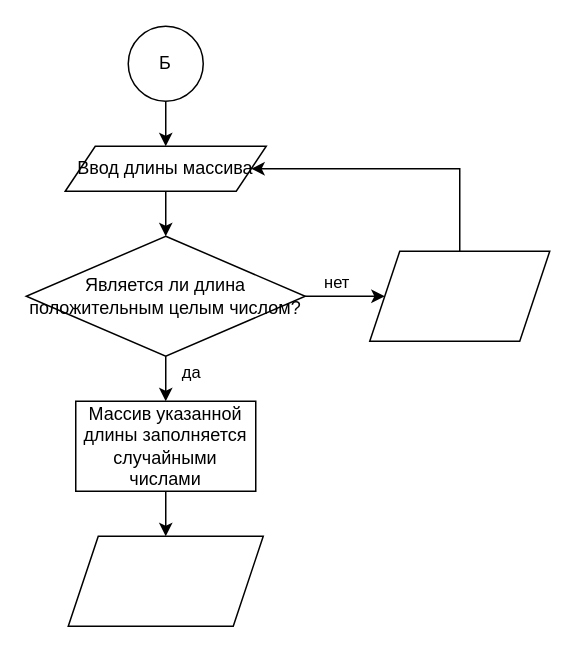
The diagram is 576 pixels wide and 653 high, and some of its shapes have lost their labels. The shapes that lost their labels are listed below. From the top down, each one's box as (x1, y1, x2, y2) in pixels, then its label:
(368, 250, 550, 341): Сообщение об ошибке с просьбой повторить ввод
(67, 535, 263, 626): Сообщение о том, что массив сформирован
